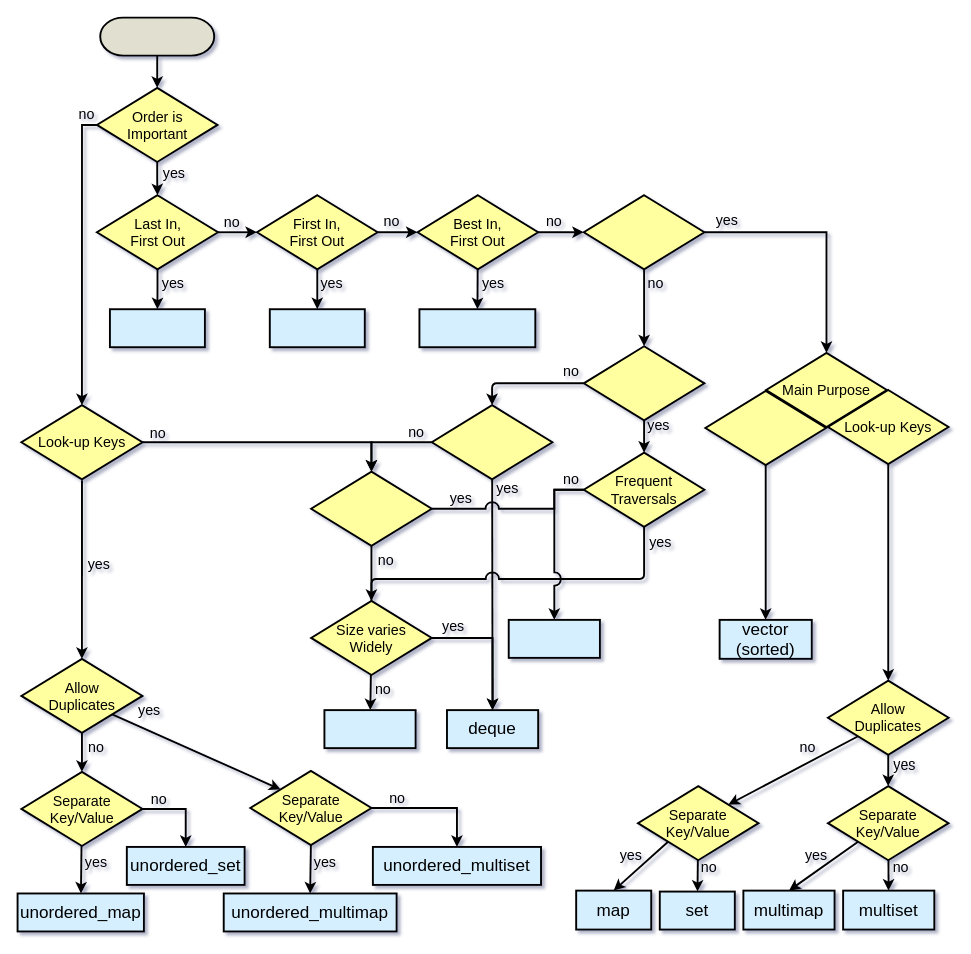
Image size: 971x954. Some labels were removed from this diagram. The centre of each missing label's shape, as x and y in pixels:
"In-order Traversals" belongs at pixel 765 428.
"Insert/Erase at front" belongs at pixel 491 442.
"Insert/Erase at middle" belongs at pixel 643 383.
"Keep Sorted Elements" belongs at pixel 643 232.
"list" belongs at pixel 553 638.
"Persistent Positions" belongs at pixel 371 508.
"priority_queue" belongs at pixel 477 328.
"queue" belongs at pixel 316 328.
"stack" belongs at pixel 156 328.
"Start" belongs at pixel 157 36.
"vector" belongs at pixel 369 729.
